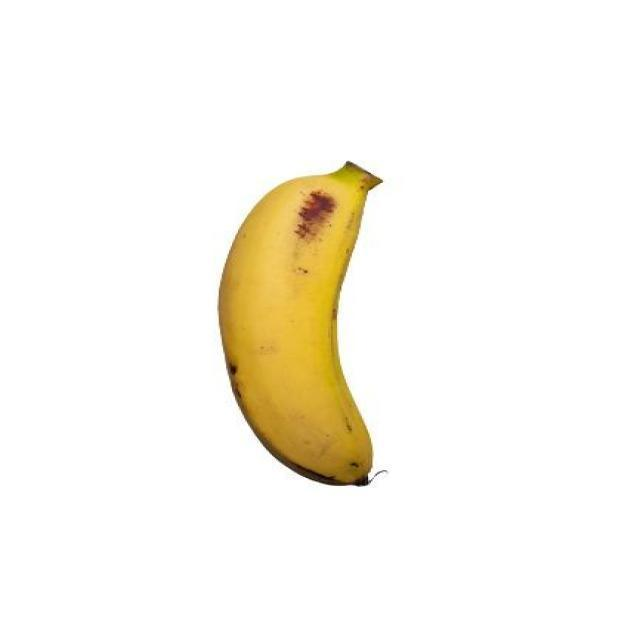Banana: (212, 162, 390, 492)
